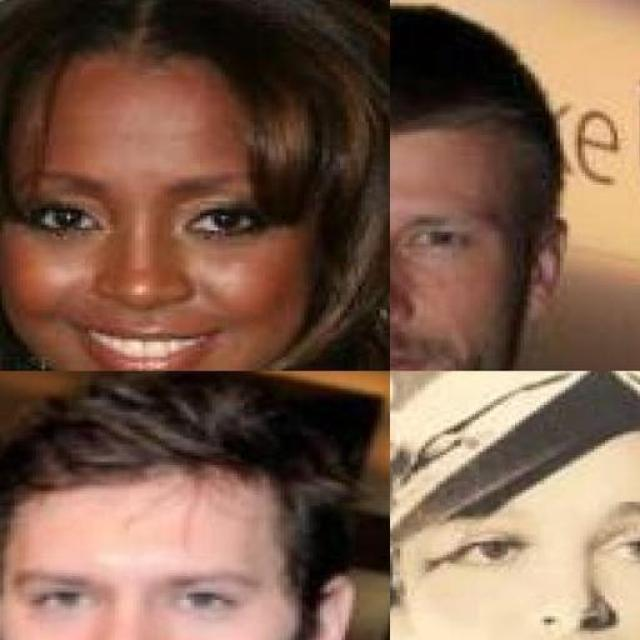bareface: (5, 0, 377, 379)
